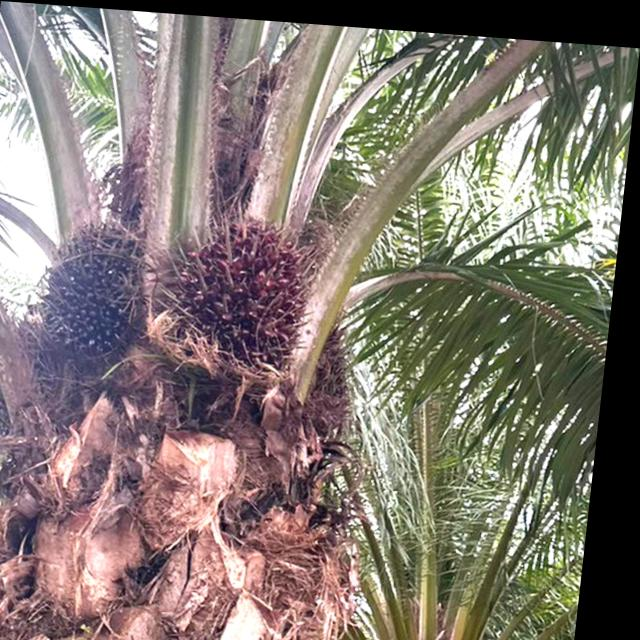ripe: (168, 183, 338, 375)
